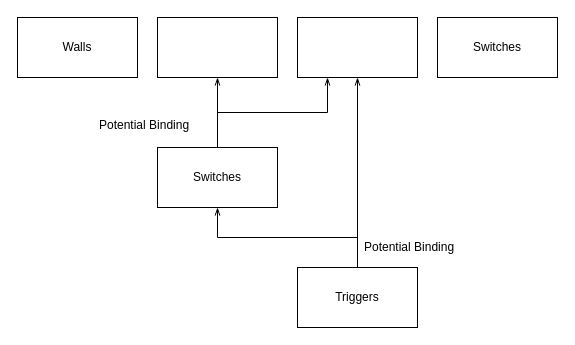
The diagram is 575 pixels wide and 345 high, and some of its shapes have lost their labels. The shapes that lost their labels are listed below. From the top down, each one's centre as x and y in pixels, then its label:
pixel 217 47: Doors
pixel 357 47: Terminals
